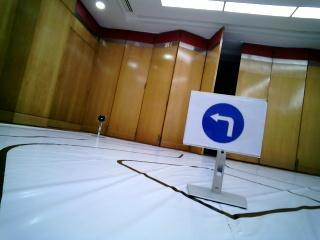left: (194, 93, 247, 148)
